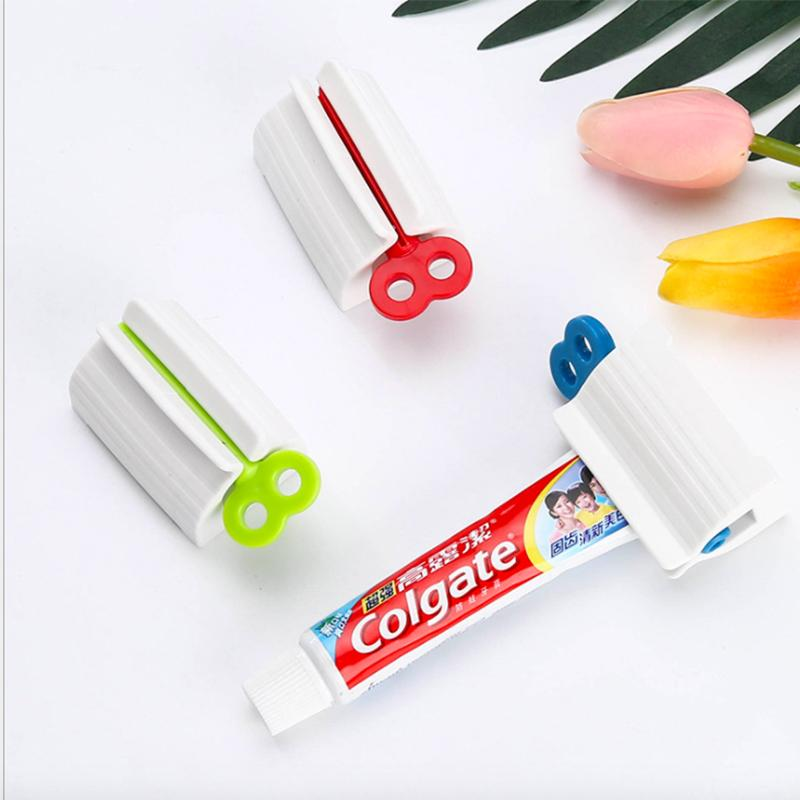toothpaste: (241, 409, 663, 746)
